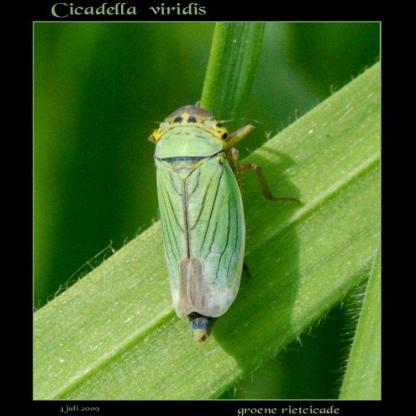Green-Leafhopper: (142, 99, 312, 348)
